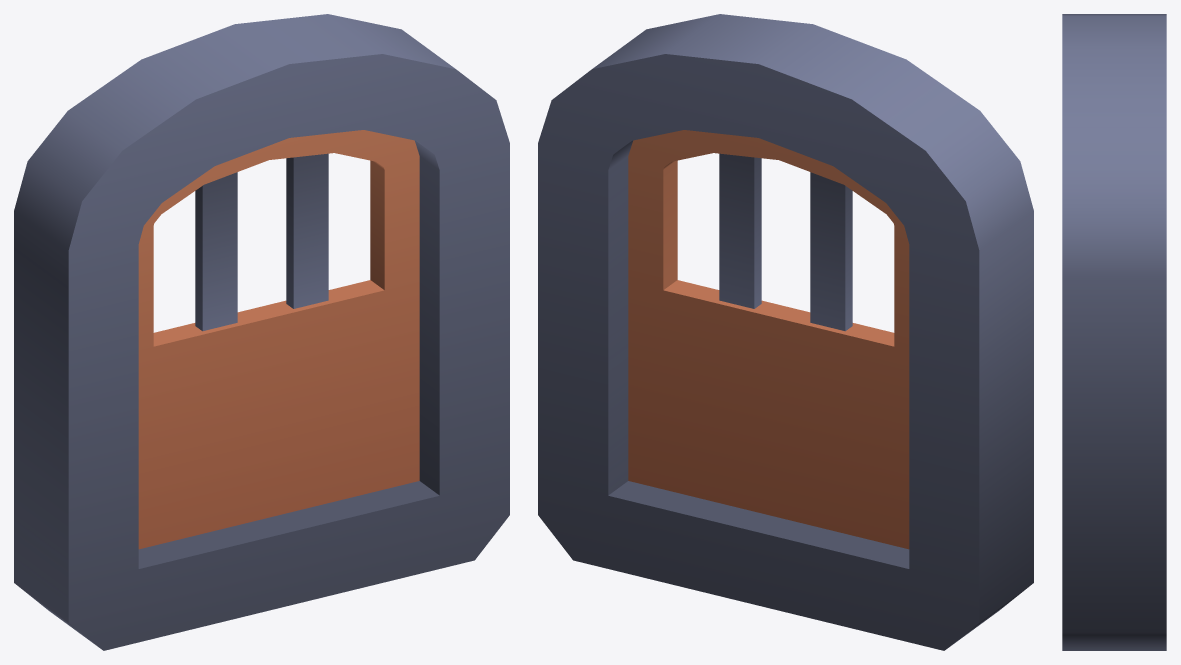
Rendered from door.005_lev2.glb.
3 views of the same model, side by side, from view 1: azimuth 30°, elevation 25°; view 2: azimuth 150°, elevation 25°; view 3: azimuth 270°, elevation 25° (orthographic). The views are drawn at different scales.
Parts seen in each view (by area): view 1: door.005_lev2; view 2: door.005_lev2; view 3: door.005_lev2.
Part boxes in pixels (<box>): door.005_lev2: <box>14,14,509,650</box>; door.005_lev2: <box>538,14,1033,650</box>; door.005_lev2: <box>1062,14,1166,650</box>.
Bounding box in the file's own units: 5.04 × 5.91 × 1.08.
1 material, 1 textured.
